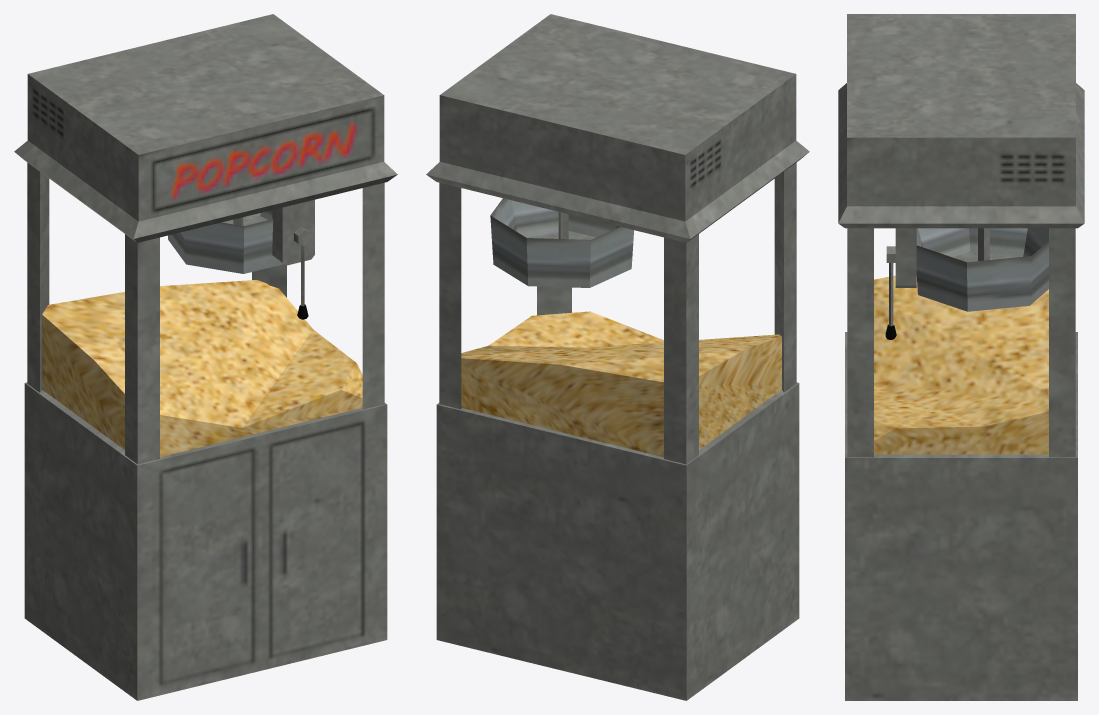
File: Popcorn.glb
3 renders of one model, left to right at view 1: azimuth 30°, elevation 25°; view 2: azimuth 150°, elevation 25°; view 3: azimuth 270°, elevation 25°, orthographic. The views are drawn at different scales.
Parts seen in each view (by area): view 1: POPCORN; view 2: POPCORN; view 3: POPCORN.
Part boxes in pixels (<box>): POPCORN: <box>14,14,397,700</box>; POPCORN: <box>426,14,809,700</box>; POPCORN: <box>838,14,1084,700</box>.
Size of the model in its own units: 1.44 by 2.84 by 1.13.
Materials: 1 (1 with a texture image).
